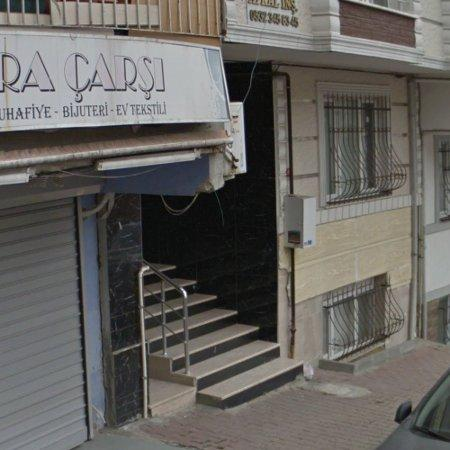stairs: (140, 265, 303, 417)
